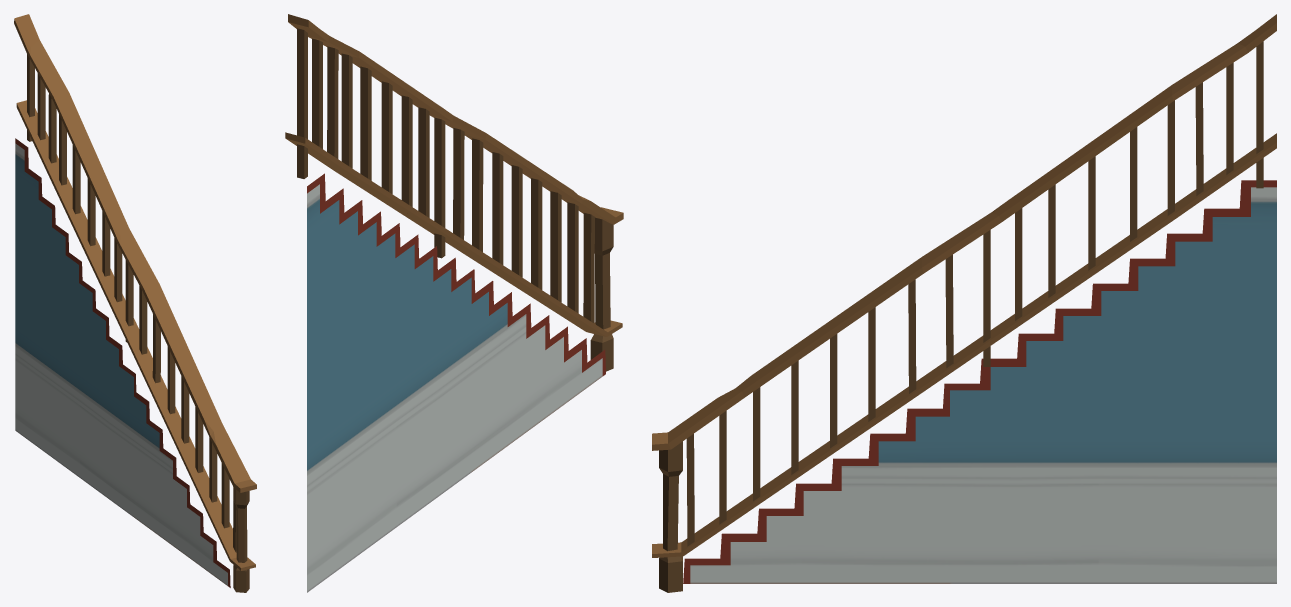
File: SM_Bld_House_Interior_StairsRail_Left_01.fbx
3 renders of one model, left to right at view 1: azimuth 30°, elevation 25°; view 2: azimuth 150°, elevation 25°; view 3: azimuth 270°, elevation 25°, orthographic. The views are drawn at different scales.
Parts seen in each view (by area): view 1: SM_Bld_House_Interior_StairsRail_Left_01; view 2: SM_Bld_House_Interior_StairsRail_Left_01; view 3: SM_Bld_House_Interior_StairsRail_Left_01.
Boxes of the visible parts, x1,y1,x2,y2 form: SM_Bld_House_Interior_StairsRail_Left_01: [14, 14, 256, 592]; SM_Bld_House_Interior_StairsRail_Left_01: [285, 14, 623, 592]; SM_Bld_House_Interior_StairsRail_Left_01: [652, 14, 1276, 592].
Size of the model in its own units: 19.1 by 424 by 421.
Materials: 1 (1 with a texture image).
